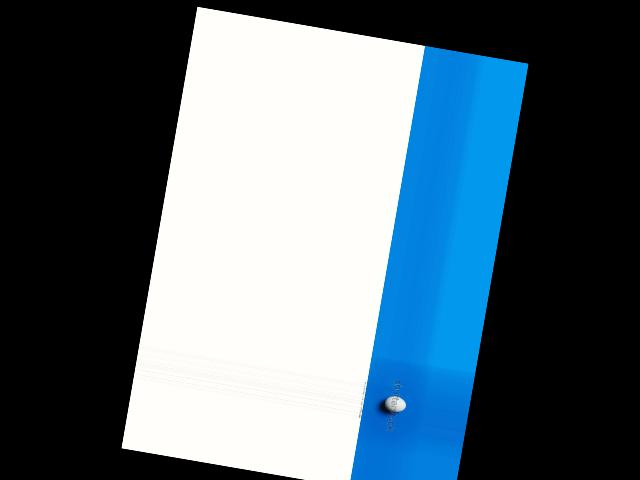egg: (383, 395, 407, 414)
